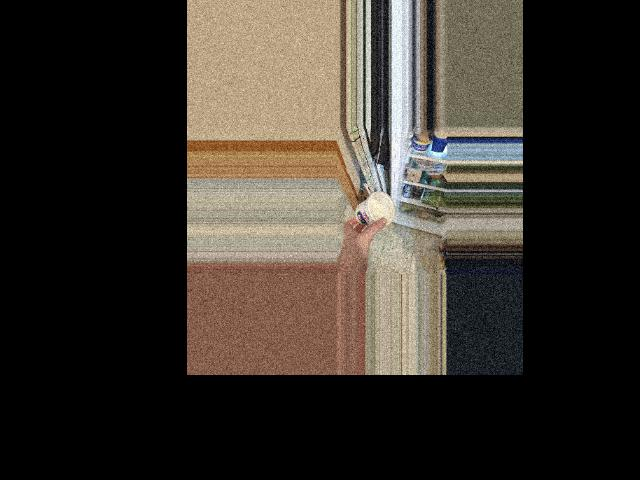cotage: (351, 190, 394, 231)
